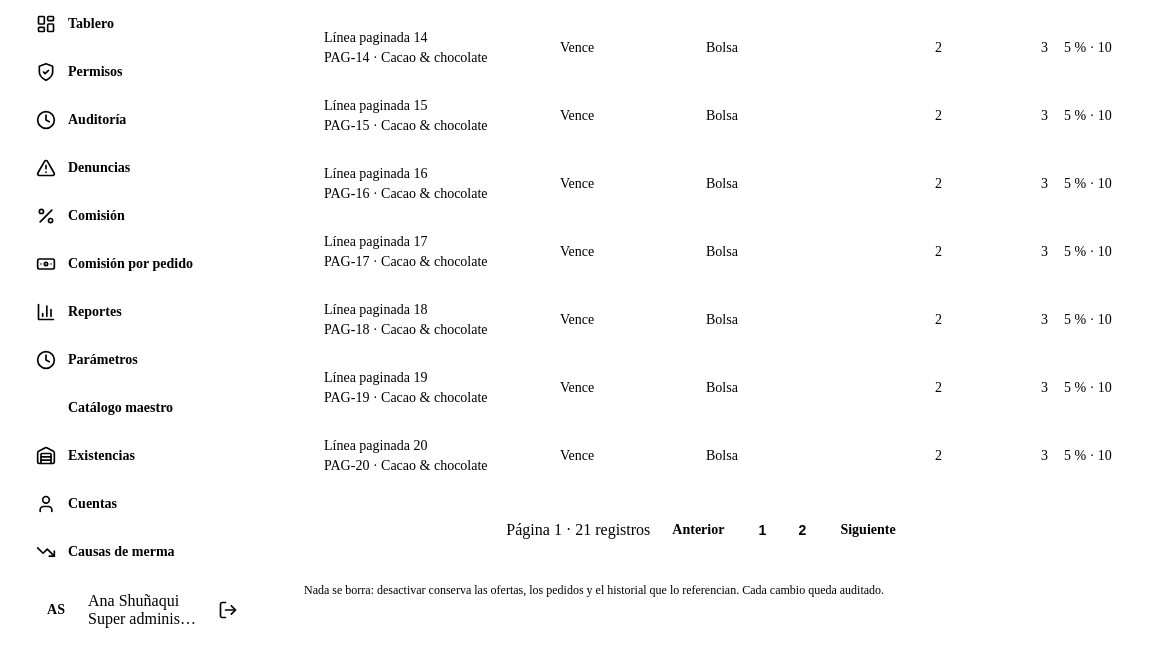
it: Paginación del catálogo (HU-433) › muestra 20 líneas en la primera página y la línea 21 en la segunda; permite volver
(page scrolled)
Expected: the text "Línea paginada 20" is shown, x1=324 y1=438 x2=427 y2=453
Expected: the text "Línea paginada 21" is not shown
Click the button "Siguiente" at (868, 530), box x1=826 y1=514 x2=910 y2=546
(page scrolled)
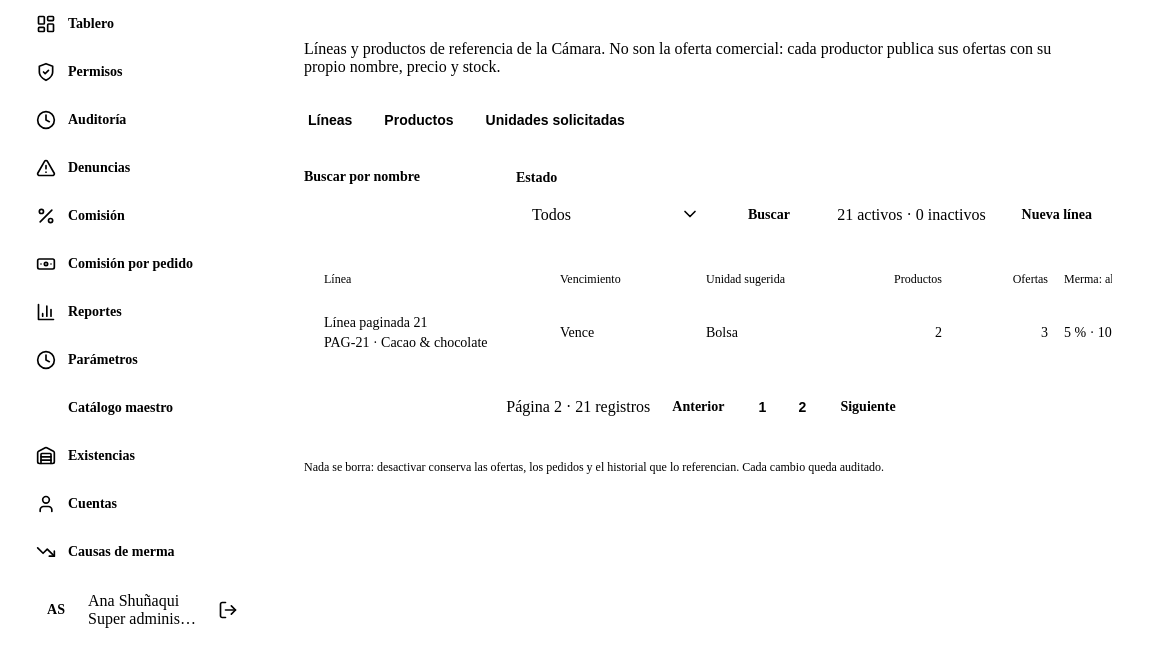
Expected: the text "Página 2 · 21 registros" is shown, x1=506 y1=398 x2=650 y2=416
Expected: the text "Línea paginada 21" is shown, x1=324 y1=315 x2=427 y2=330
Click the button "Anterior" at (698, 407), box x1=658 y1=391 x2=738 y2=423
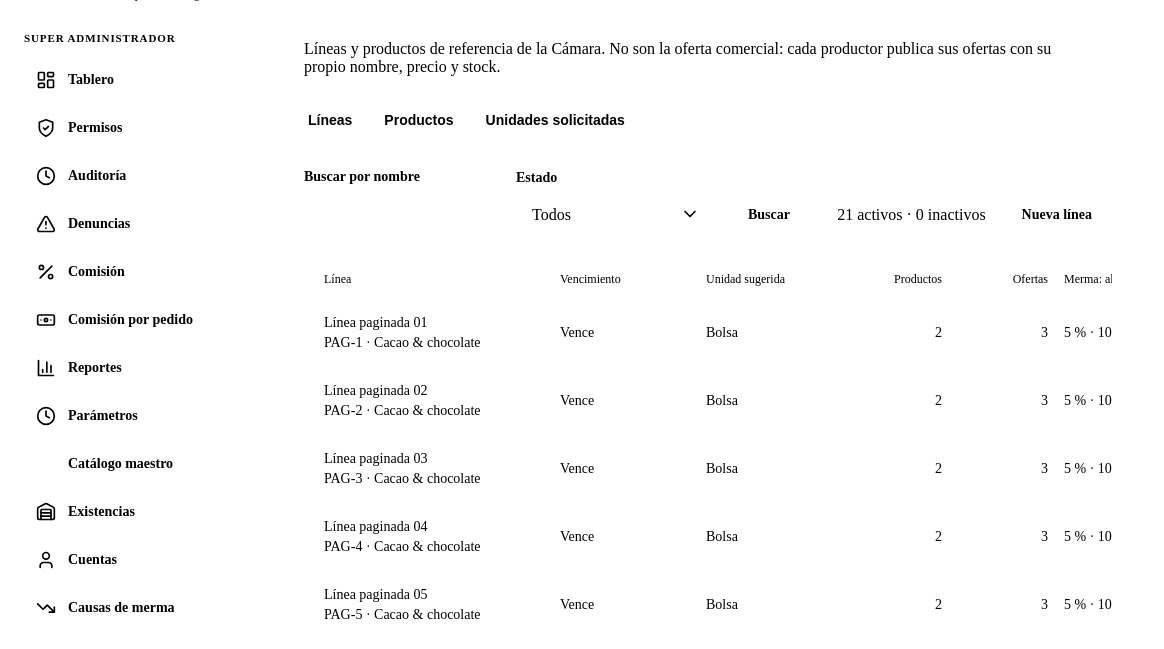
Expected: the text "Línea paginada 01" is shown, x1=324 y1=315 x2=427 y2=330
Expected: the text "Línea paginada 21" is gone
